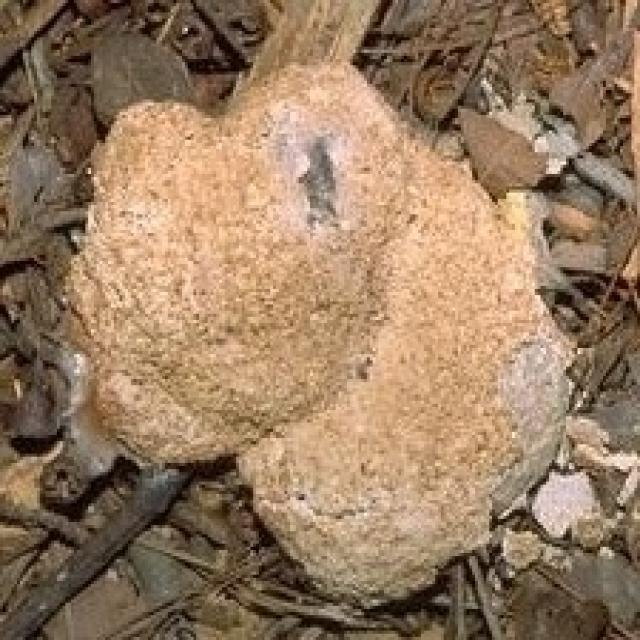Dog_vomit_slime_mold: (46, 53, 580, 609)
